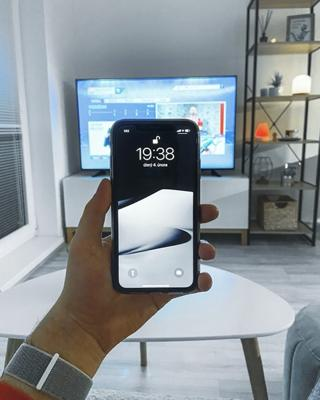Mobile Phone: (108, 117, 201, 294)
